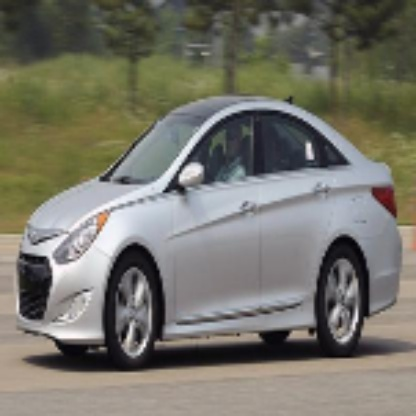Vehicle: (15, 96, 402, 374)
